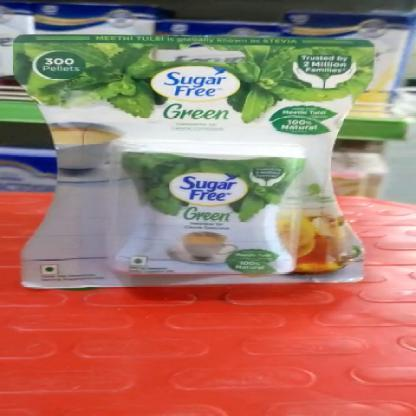SUGAR FREE GRN 300 PELLET: (10, 37, 368, 286)
